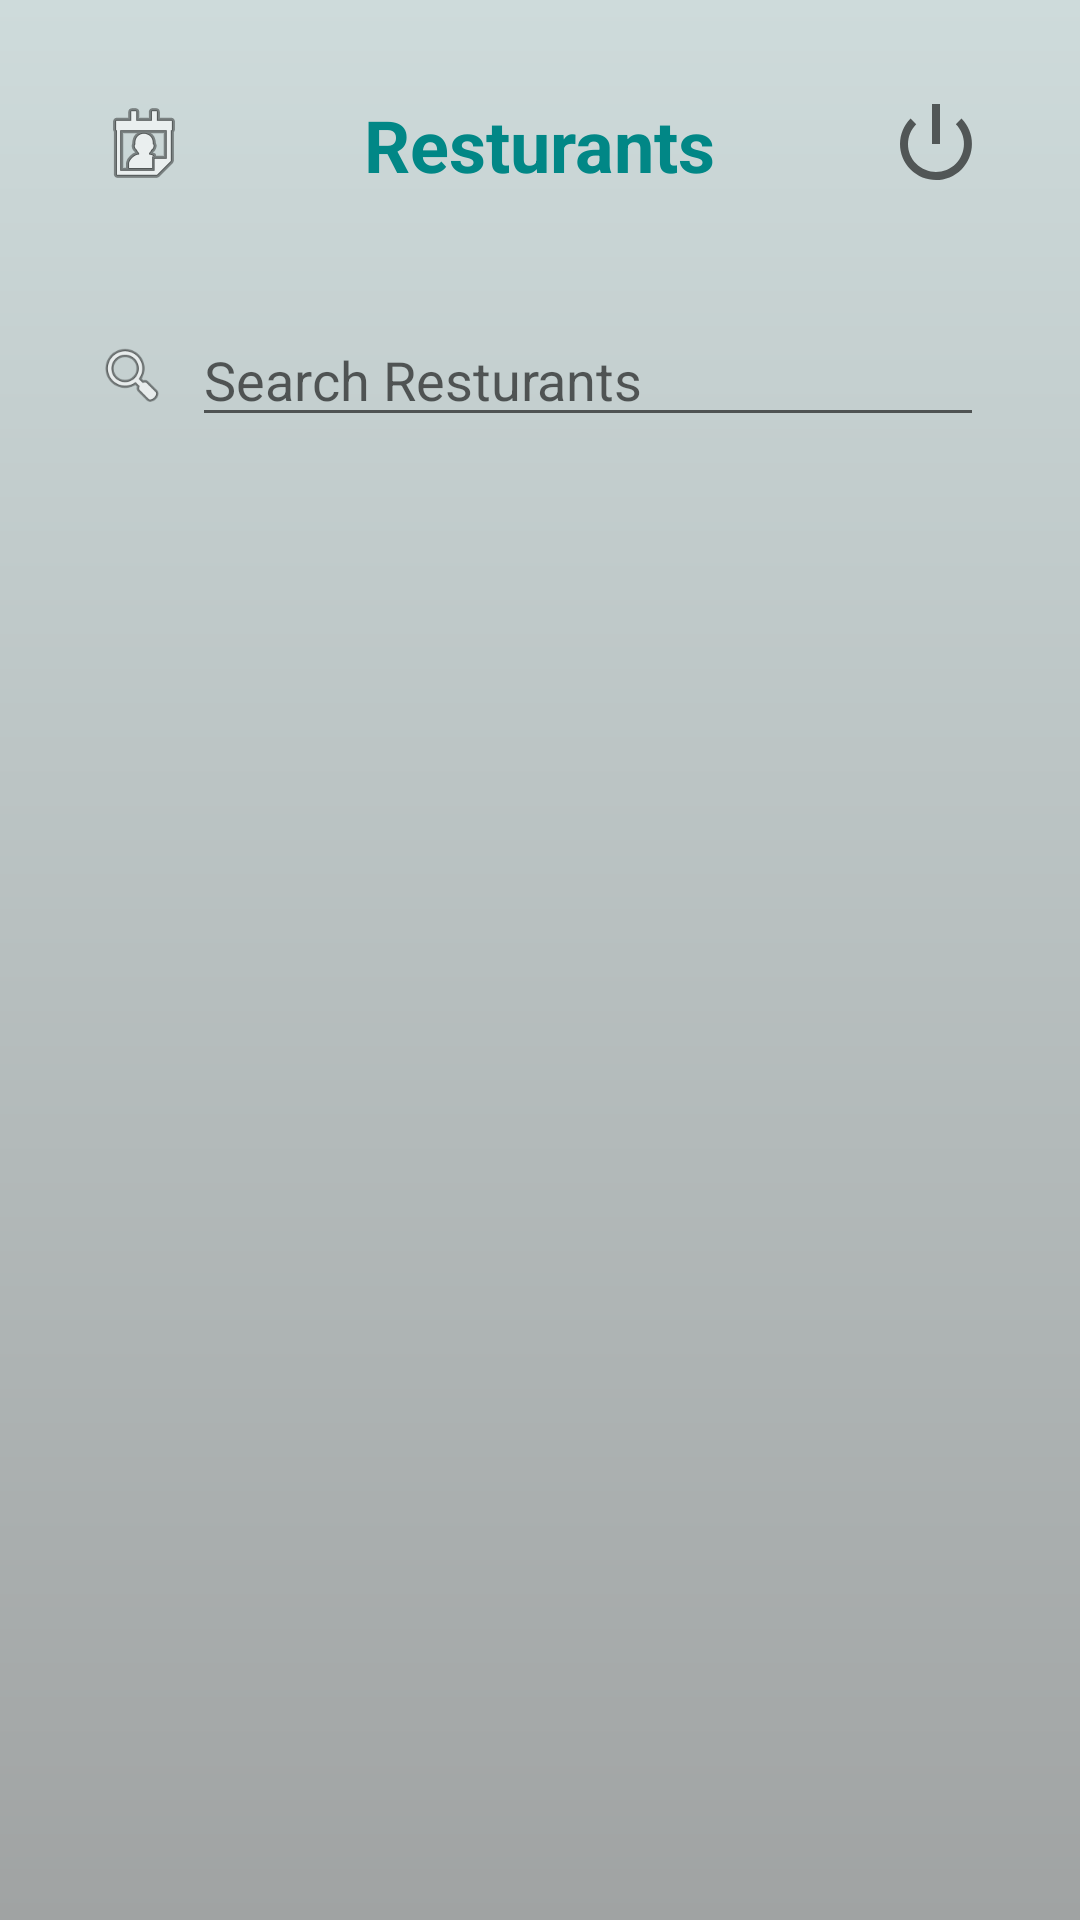

Where icons sit on this 1080px×1920px app screen, as [x1,y1,x2,y2]:
calendar: [113,108,175,178]
lock power off: [900,104,972,180]
